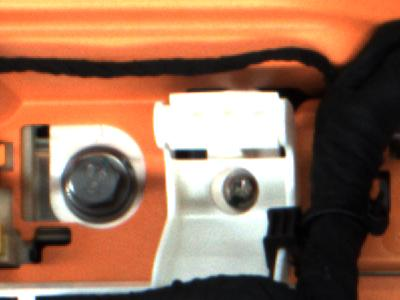nut_b: (54, 146, 146, 226)
